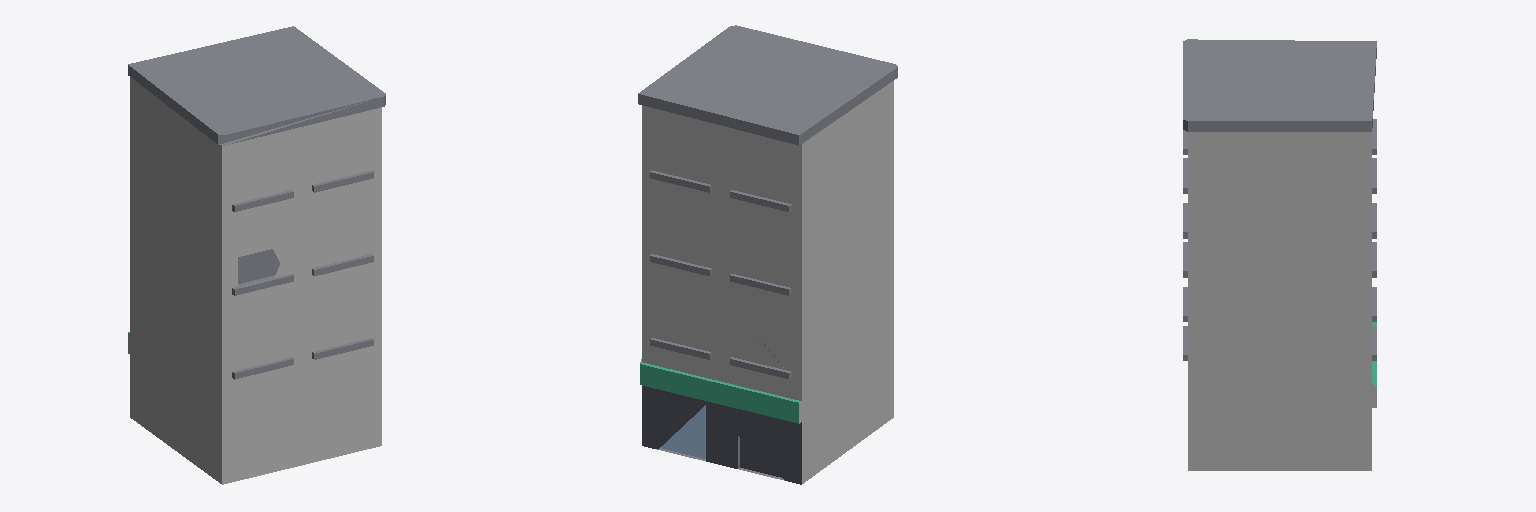
Rendered from buildingTest2.obj.
The picture shows the model from 3 angles: view 1: azimuth 30°, elevation 25°; view 2: azimuth 150°, elevation 25°; view 3: azimuth 270°, elevation 25°; orthographic projection.
Visible parts, largest first — view 1: large_buildingB; view 2: large_buildingB; view 3: large_buildingB.
Part boxes in pixels (left/top/right/bottom): large_buildingB: left=128, top=26, right=385, bottom=484; large_buildingB: left=638, top=25, right=897, bottom=484; large_buildingB: left=1183, top=39, right=1376, bottom=470.
Size of the model in its own units: 0.84 by 1.68 by 0.84.